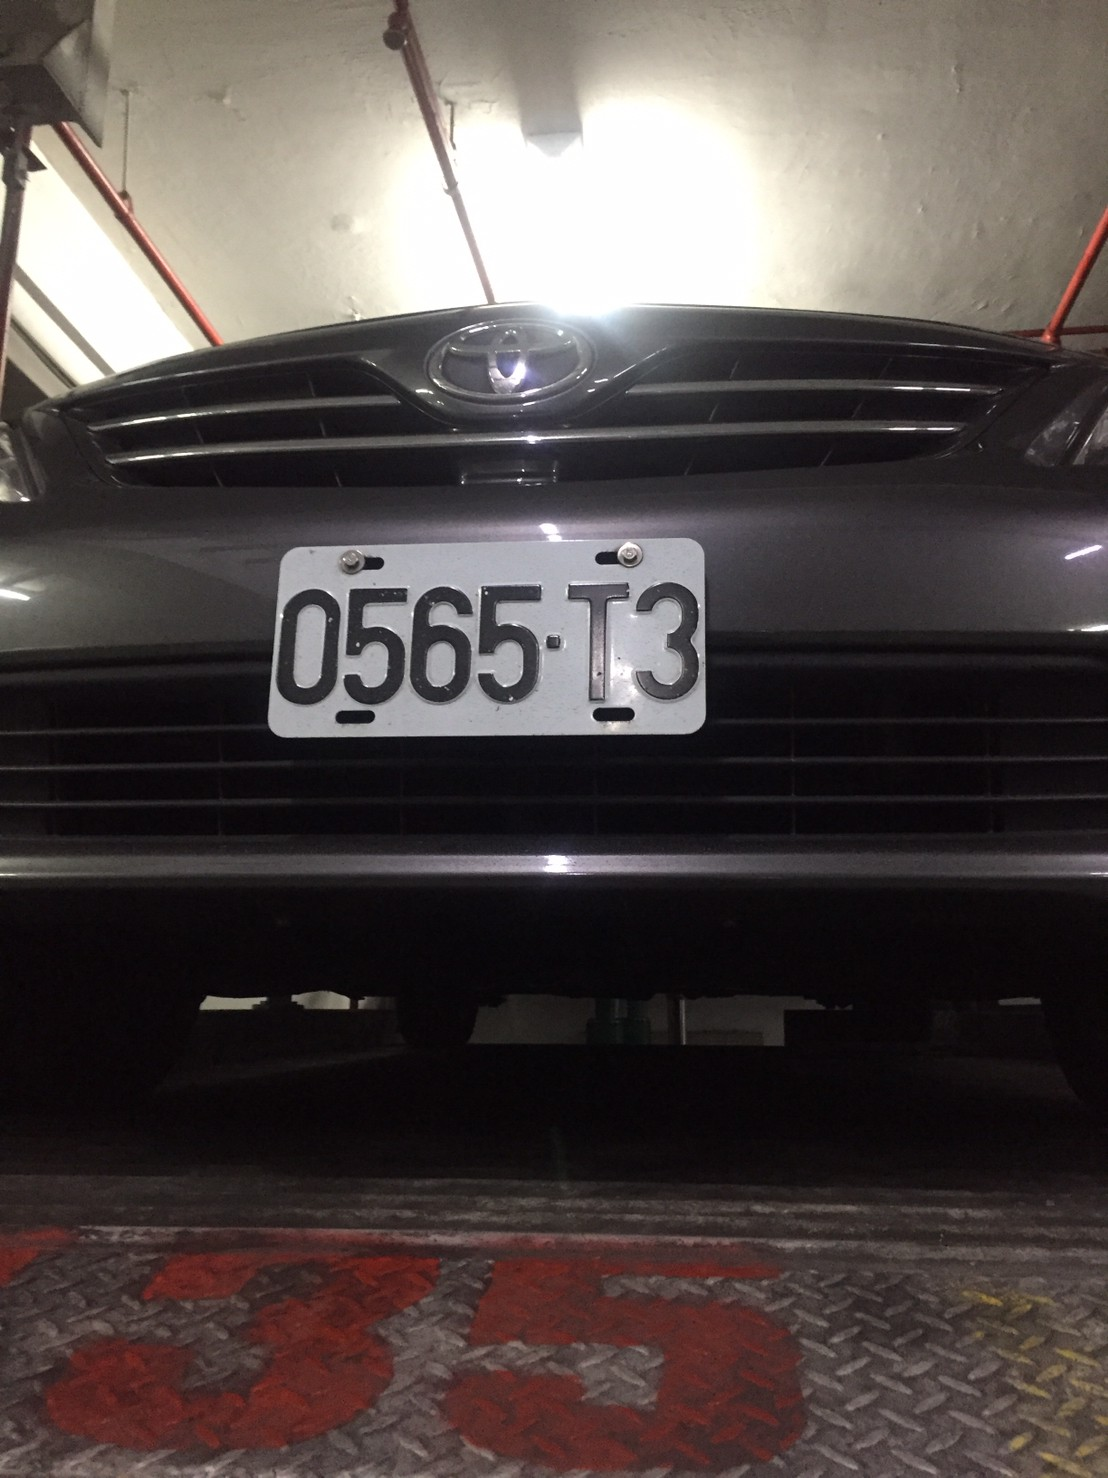LP: (268, 542, 706, 725)
